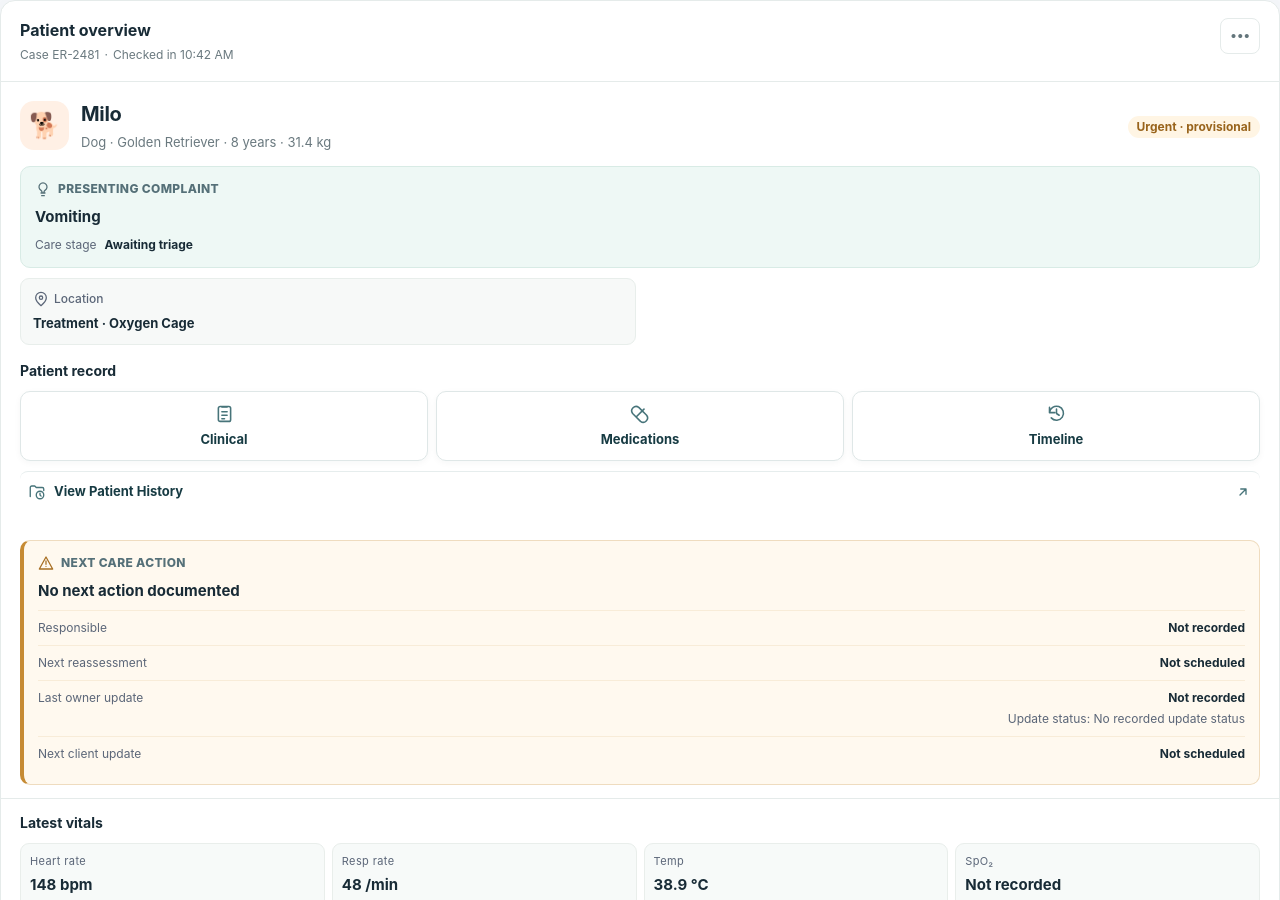
Test: PatientOverviewPanel › offers Complete triage from More actions only for an incoming case
The image size is (1280, 900).
Click the button named "More actions" at [1240, 36], box [1220,18,1260,54]
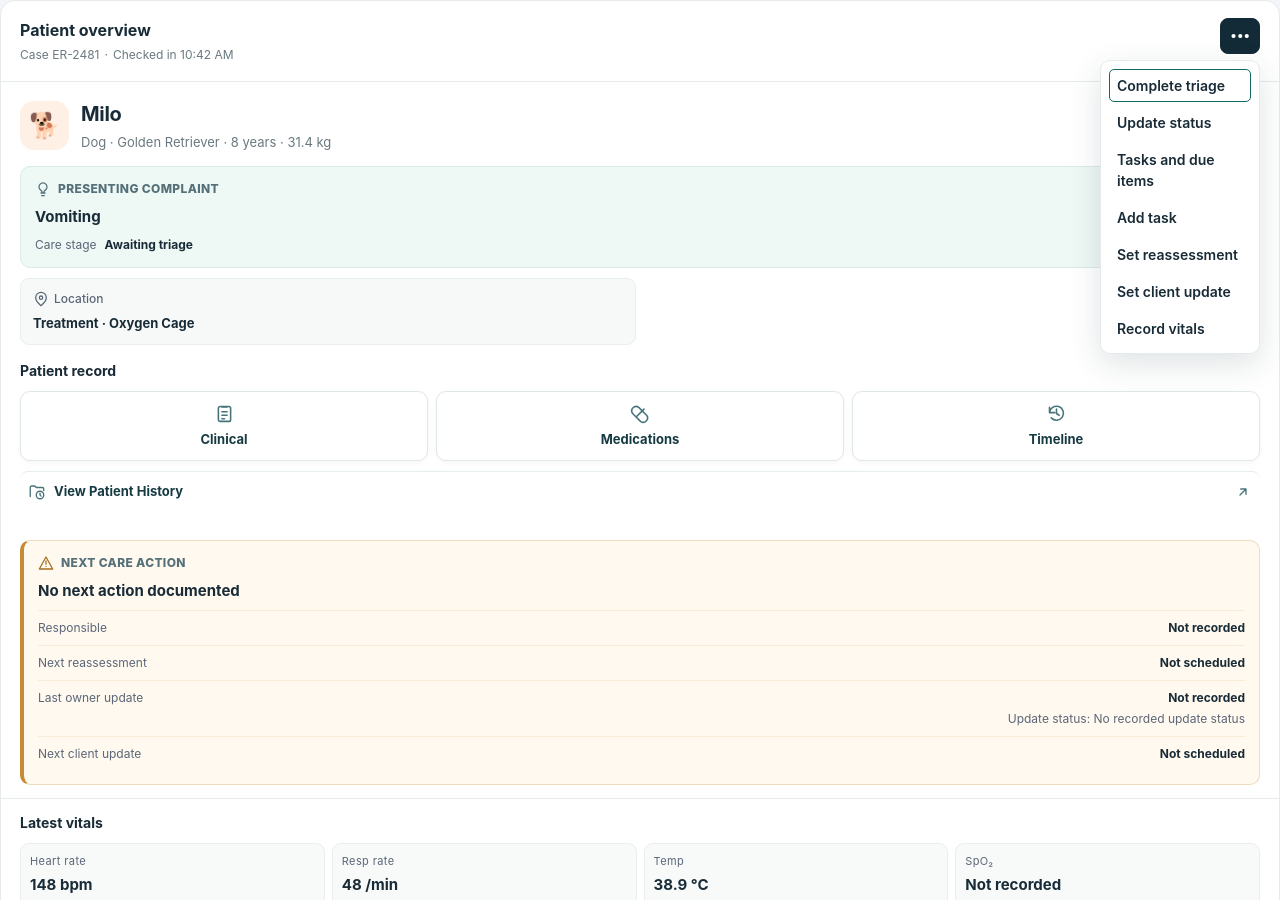
Click the button "Complete triage" at [1180, 85], box [1107,66,1253,104]
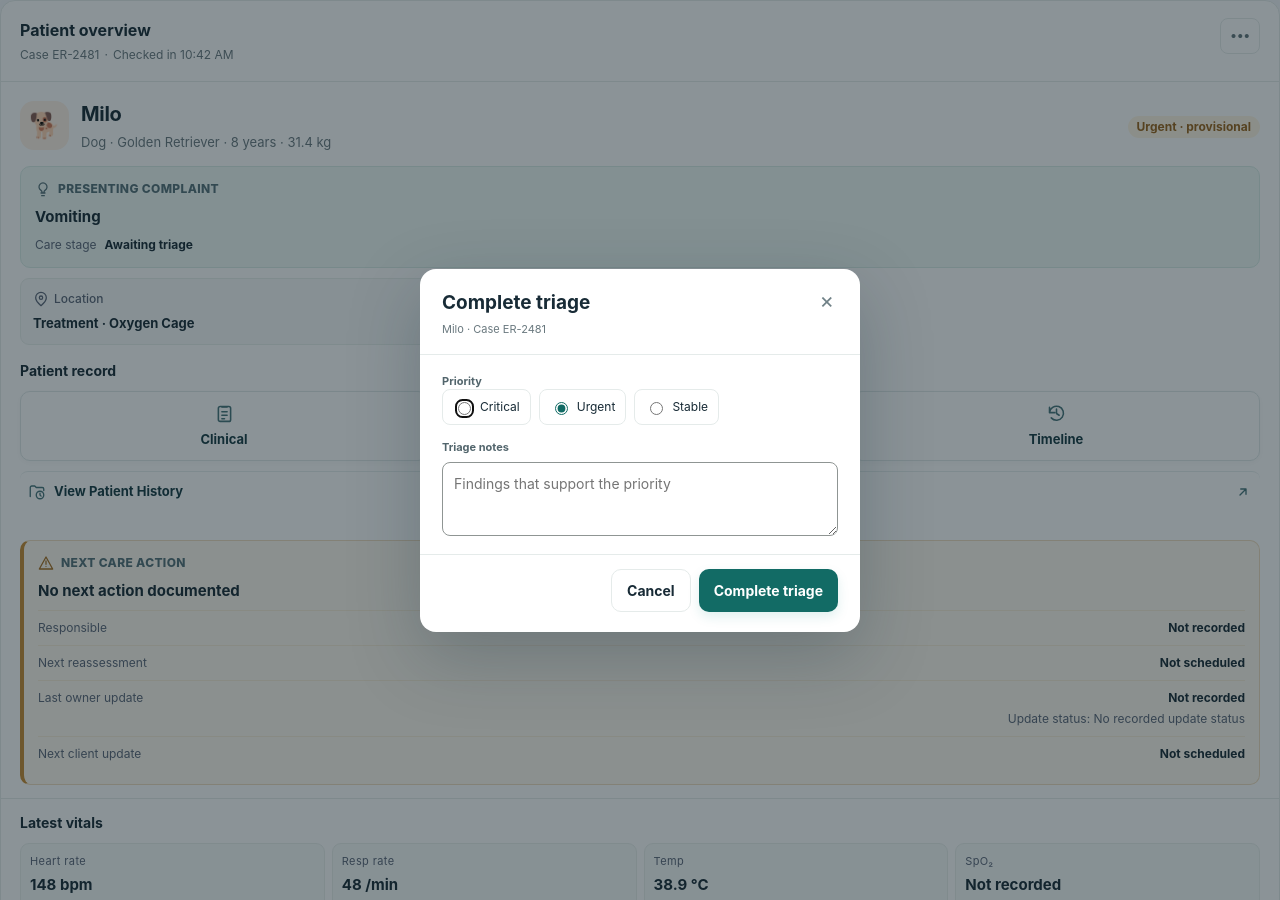
Now the dialog "Complete triage" is shown, box [420,268,860,632]
Now the radio button labelled "Urgent" is checked, box [555,402,568,415]
Now the button named "More actions" is collapsed, box [1220,18,1260,54]
